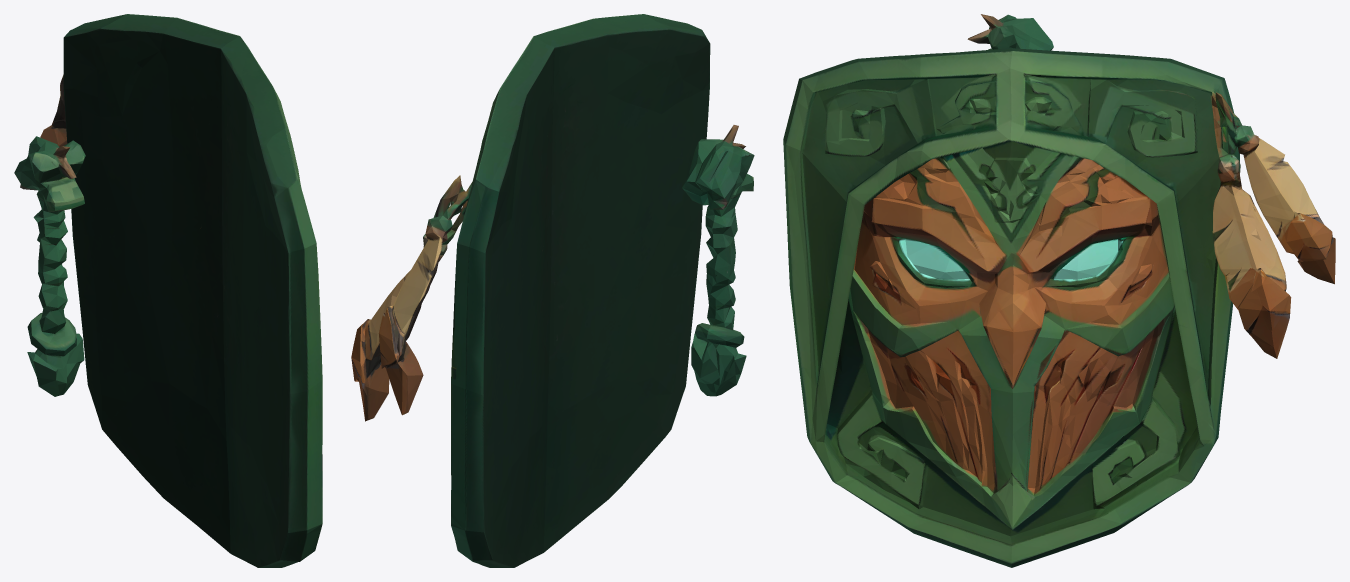
Rendered from Mask_Shooter_2.glb.
3 views of the same model, side by side, from view 1: azimuth 30°, elevation 25°; view 2: azimuth 150°, elevation 25°; view 3: azimuth 270°, elevation 25° (orthographic).
Parts seen in each view (by area): view 1: tripo_node_3c3e8b3d-9052-4b28-9d37-9c2e8234fb1c; view 2: tripo_node_3c3e8b3d-9052-4b28-9d37-9c2e8234fb1c; view 3: tripo_node_3c3e8b3d-9052-4b28-9d37-9c2e8234fb1c.
Boxes of the visible parts, x1,y1,x2,y2 form: tripo_node_3c3e8b3d-9052-4b28-9d37-9c2e8234fb1c: (14,14,322,567); tripo_node_3c3e8b3d-9052-4b28-9d37-9c2e8234fb1c: (351,14,754,567); tripo_node_3c3e8b3d-9052-4b28-9d37-9c2e8234fb1c: (783,14,1335,567).
Bounding box in the file's own units: 0.5344 × 1 × 0.9792.
Materials: 1 (1 with a texture image).
